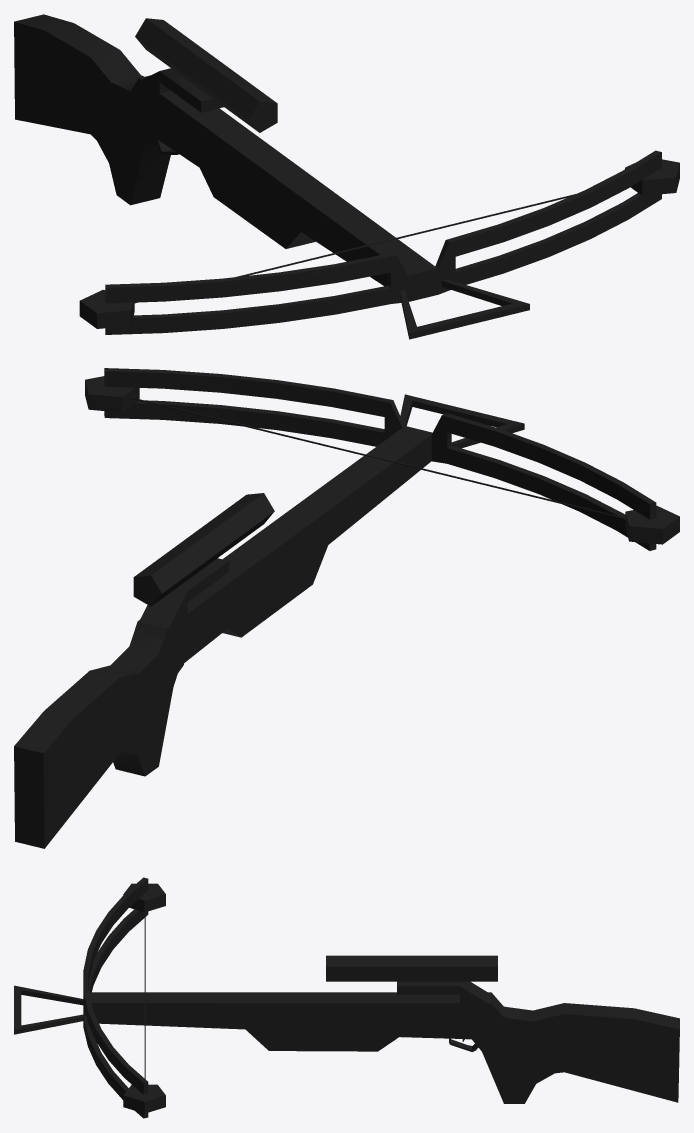
File: crossbowthree_empty.dae
3 renders of one model, top to bottom at view 1: azimuth 30°, elevation 25°; view 2: azimuth 150°, elevation 25°; view 3: azimuth 270°, elevation 25°, orthographic. The views are drawn at different scales.
Visible parts, largest first — view 1: vsn_mesh_0_crossbowthree_empty; view 2: vsn_mesh_0_crossbowthree_empty; view 3: vsn_mesh_0_crossbowthree_empty.
Boxes of the visible parts, x1,y1,x2,y2 form: vsn_mesh_0_crossbowthree_empty: [14, 14, 679, 339]; vsn_mesh_0_crossbowthree_empty: [14, 368, 679, 848]; vsn_mesh_0_crossbowthree_empty: [14, 877, 679, 1118].
Bounding box in the file's own units: 0.693 × 0.2094 × 0.8934.
1 material, 1 textured.
